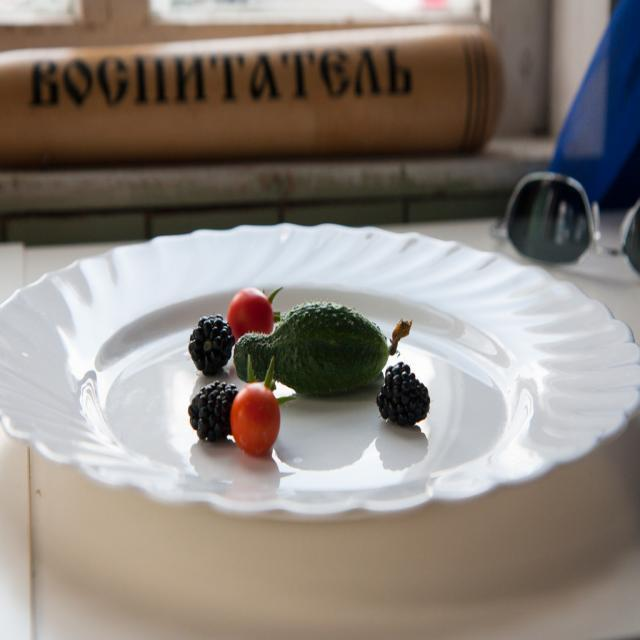ceramic plate: (7, 232, 640, 576)
